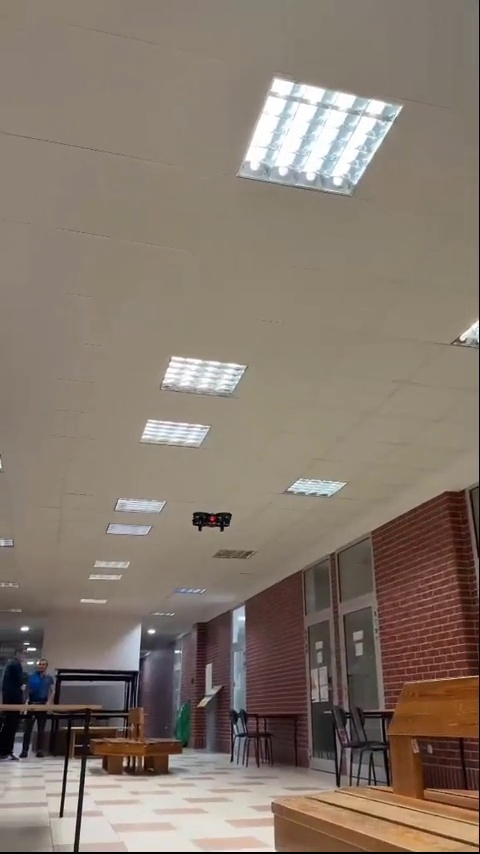drone: (186, 510, 238, 533)
no vest: (3, 646, 21, 758), (30, 655, 54, 730)
